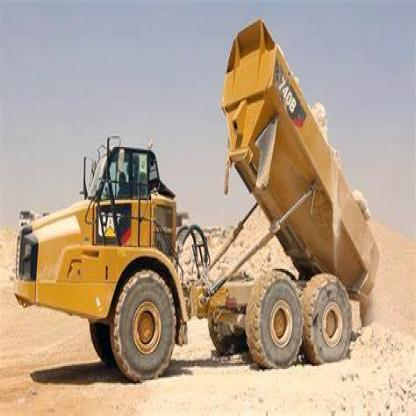dump_truck: (10, 11, 381, 385)
